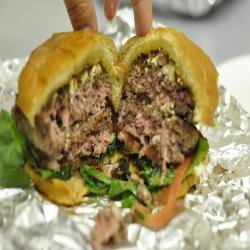burger: (20, 24, 210, 226)
